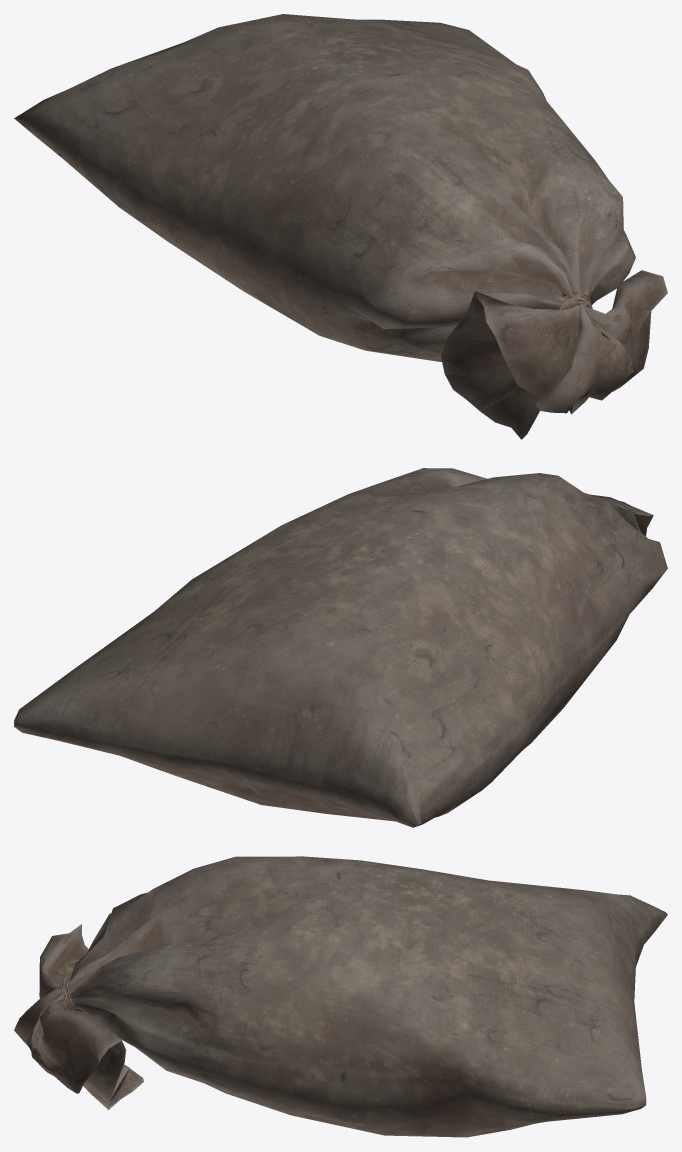
Rendered from SM_Sandbag_01.fbx.
The picture shows the model from 3 angles, top to bottom: view 1: azimuth 30°, elevation 25°; view 2: azimuth 150°, elevation 25°; view 3: azimuth 270°, elevation 25°; orthographic projection. The views are drawn at different scales.
Parts seen in each view (by area): view 1: SM_Sandbag_01_LOD0; view 2: SM_Sandbag_01_LOD0; view 3: SM_Sandbag_01_LOD0.
Part boxes in pixels (x1,y1,x2,y2): SM_Sandbag_01_LOD0: [14, 14, 667, 439]; SM_Sandbag_01_LOD0: [14, 468, 667, 827]; SM_Sandbag_01_LOD0: [14, 856, 667, 1137].
Bounding box in the file's own units: 77.68 × 116 × 43.63.
Materials: 1 (1 with a texture image).
